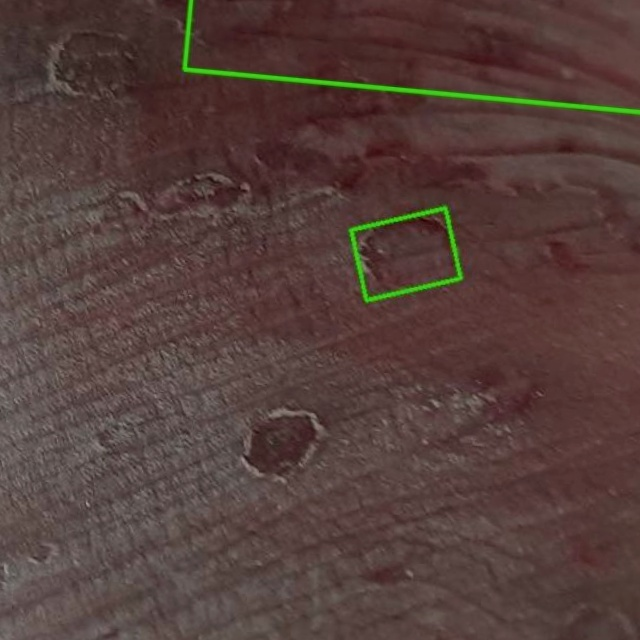Contact Dermatitis: (350, 207, 461, 299)
